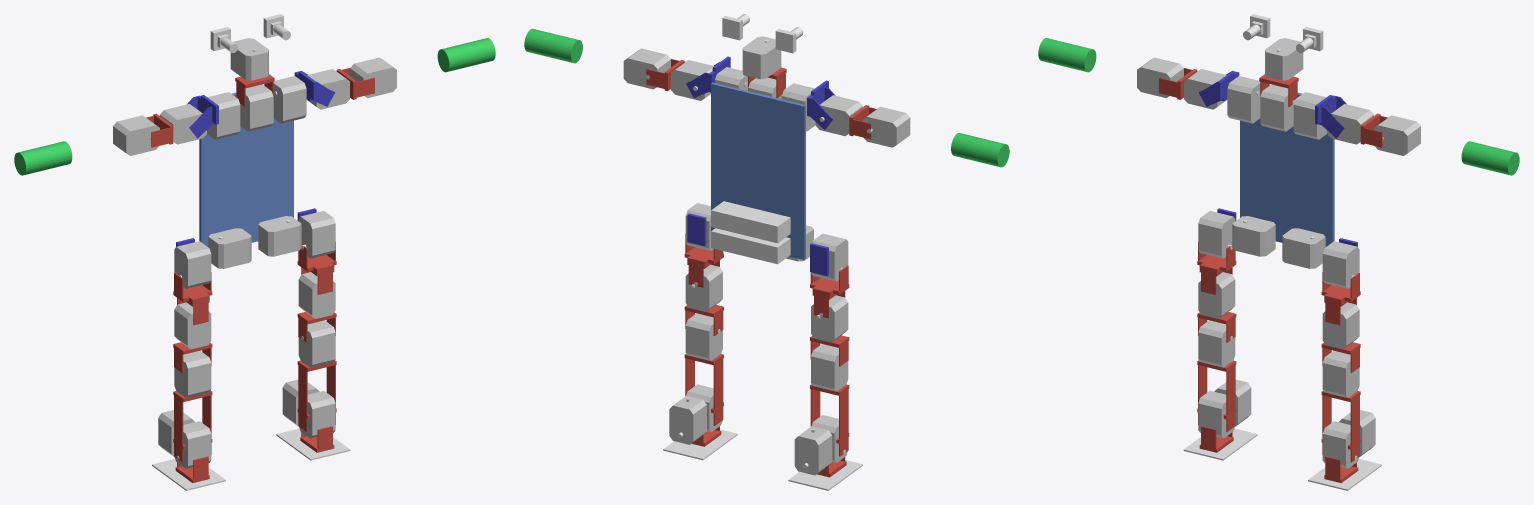
File: full_robot_mx28_collada(v4).dae
3 renders of one model, left to right at view 1: azimuth 30°, elevation 25°; view 2: azimuth 150°, elevation 25°; view 3: azimuth 330°, elevation 25°, orthographic.
Visible parts, largest first — view 1: Central, left_leg_servo1, right_leg_servo1, right_leg_servo2, left_leg_servo2, left_leg_servo4, right_leg_servo4, left_arm_servo1, right_arm_servo3, left_hand, right_hand, head_servo2 (+23 smaller); view 2: Central, battery2, battery1, right_leg_servo5, left_leg_servo5, left_leg_servo4, right_arm_servo3, right_leg_servo4, left_hand, right_hand, head_servo2, left_leg_servo3 (+23 smaller); view 3: Central, right_leg_servo1, left_leg_servo1, left_leg_servo2, right_leg_servo2, right_leg_servo4, left_leg_servo4, right_arm_servo1, left_arm_servo3, left_hand, right_hand, head_servo2 (+23 smaller).
Boxes of the visible parts, left/top/right/bottom form: Central: left=199, top=92, right=293, bottom=246; left_leg_servo1: left=258, top=216, right=301, bottom=256; right_leg_servo1: left=208, top=228, right=251, bottom=268; right_leg_servo2: left=174, top=241, right=211, bottom=288; left_leg_servo2: left=298, top=211, right=335, bottom=258; left_leg_servo4: left=298, top=320, right=335, bottom=367; right_leg_servo4: left=174, top=350, right=211, bottom=397; left_arm_servo1: left=273, top=76, right=306, bottom=123; right_arm_servo3: left=113, top=115, right=159, bottom=155; left_hand: left=437, top=38, right=495, bottom=72; right_hand: left=14, top=141, right=72, bottom=175; head_servo2: left=230, top=38, right=268, bottom=80; Central: left=711, top=82, right=805, bottom=259; battery2: left=711, top=201, right=790, bottom=243; battery1: left=711, top=228, right=790, bottom=264; right_leg_servo5: left=794, top=426, right=832, bottom=475; left_leg_servo5: left=669, top=395, right=706, bottom=444; left_leg_servo4: left=685, top=313, right=722, bottom=360; right_arm_servo3: left=863, top=106, right=910, bottom=147; right_leg_servo4: left=811, top=344, right=848, bottom=391; left_hand: left=524, top=28, right=582, bottom=63; right_hand: left=951, top=133, right=1009, bottom=167; head_servo2: left=742, top=36, right=781, bottom=79; left_leg_servo3: left=685, top=264, right=722, bottom=311; Central: left=1240, top=92, right=1334, bottom=246; right_leg_servo1: left=1232, top=216, right=1275, bottom=256; left_leg_servo1: left=1282, top=228, right=1325, bottom=268; left_leg_servo2: left=1322, top=241, right=1359, bottom=288; right_leg_servo2: left=1198, top=211, right=1235, bottom=258; right_leg_servo4: left=1198, top=320, right=1235, bottom=367; left_leg_servo4: left=1322, top=350, right=1359, bottom=397; right_arm_servo1: left=1227, top=76, right=1260, bottom=123; left_arm_servo3: left=1374, top=115, right=1420, bottom=155; left_hand: left=1461, top=141, right=1519, bottom=175; right_hand: left=1038, top=38, right=1096, bottom=72; head_servo2: left=1265, top=38, right=1303, bottom=80.
Size of the model in its own units: 7.1 by 0.996 by 6.24.
